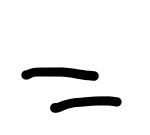eqv: (20, 67, 122, 113)
